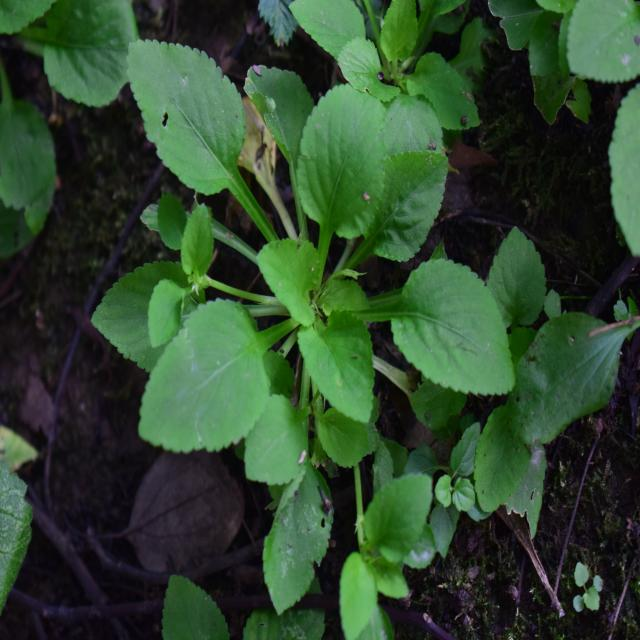Viola: (129, 41, 523, 468)
